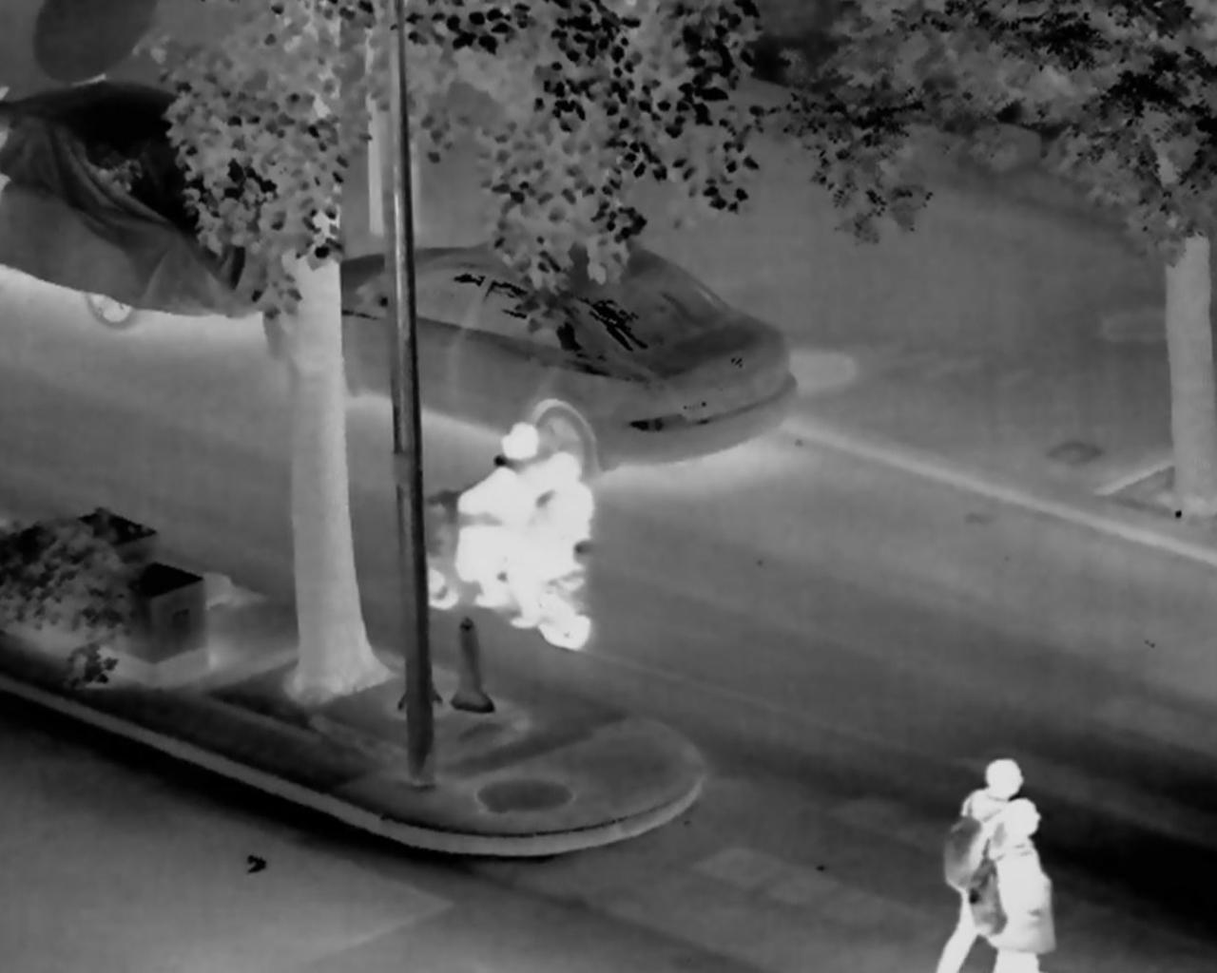person: (932, 755, 1030, 973), (449, 420, 538, 619), (513, 451, 594, 628), (979, 799, 1055, 973)
